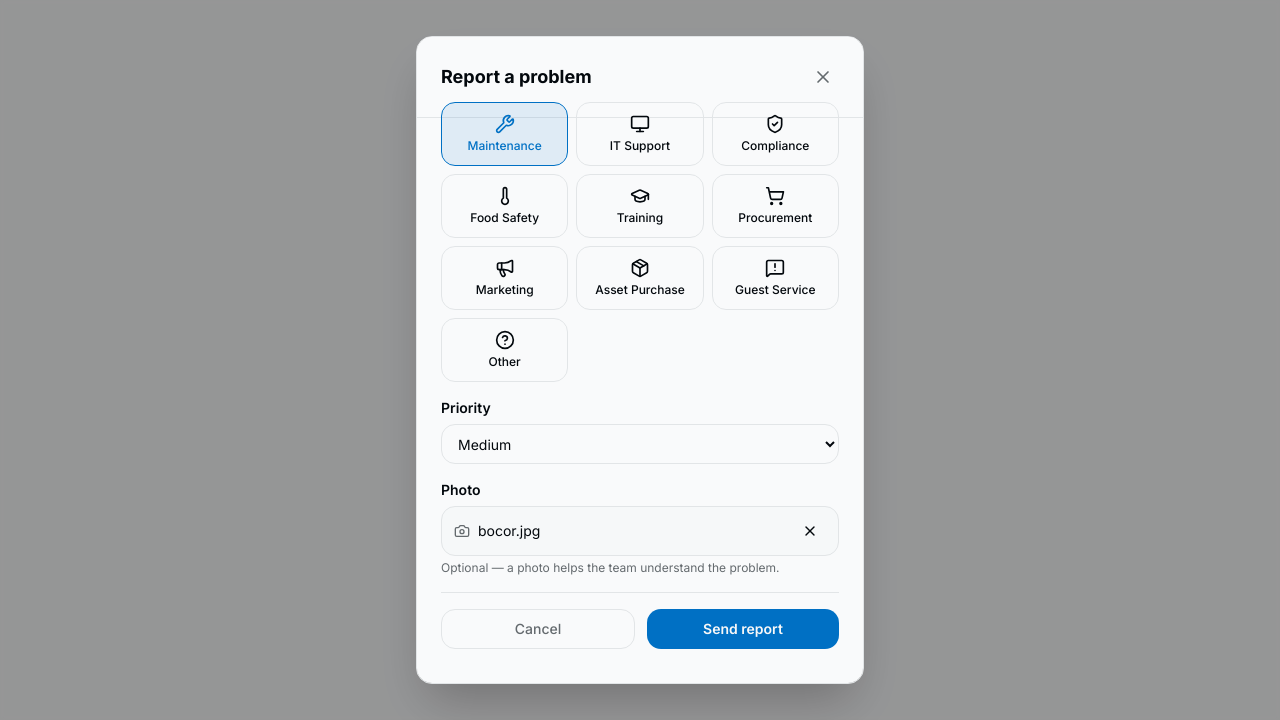
Scenario: quick report mode (Todo-Pilot §20) › uploads the photo to the new issue
This screenshot has width=1280, height=720.
Earlier steps of the test are not shown.
(page scrolled)
What coordinates should you click on to do the following:
click the button "Send report"
I would click on:
 (743, 629)
Its box is [647,609,839,649].
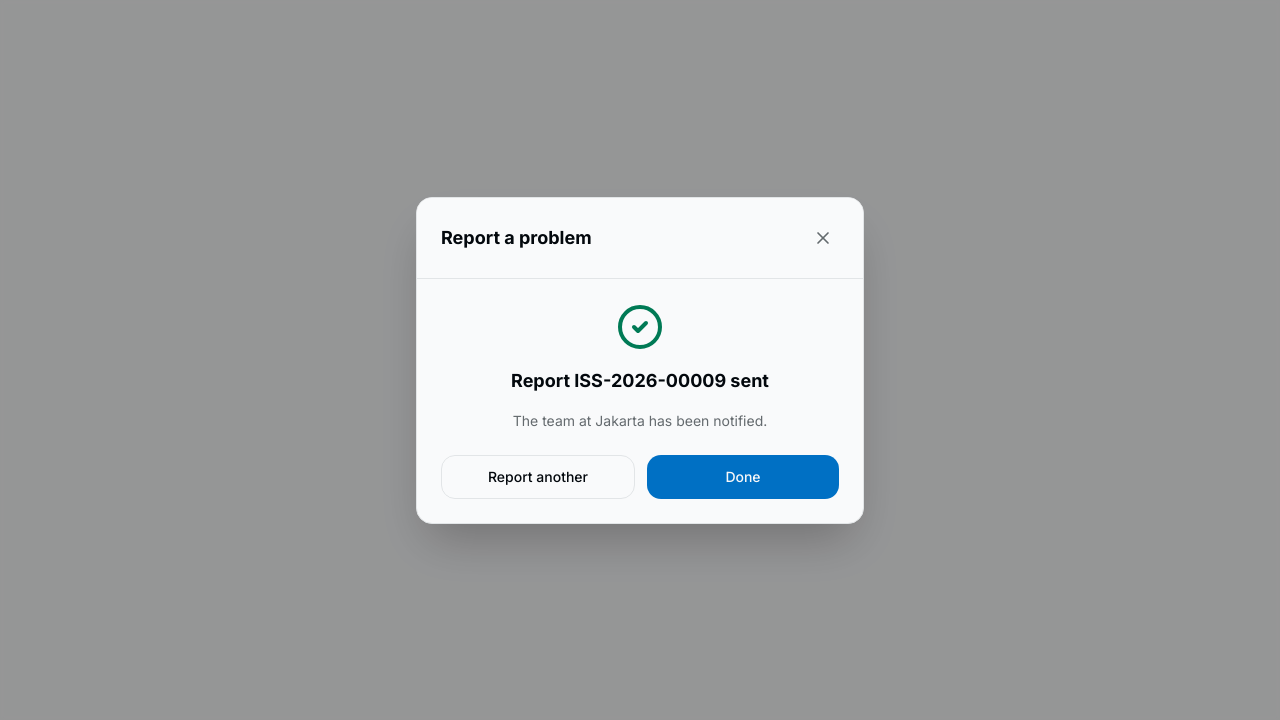
Expected: the text "Report ISS-2026-00009 sent" is shown, [511,370,769,390]
